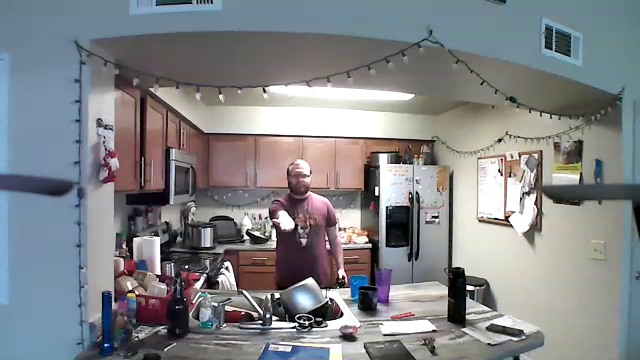land: (269, 215, 300, 234)
